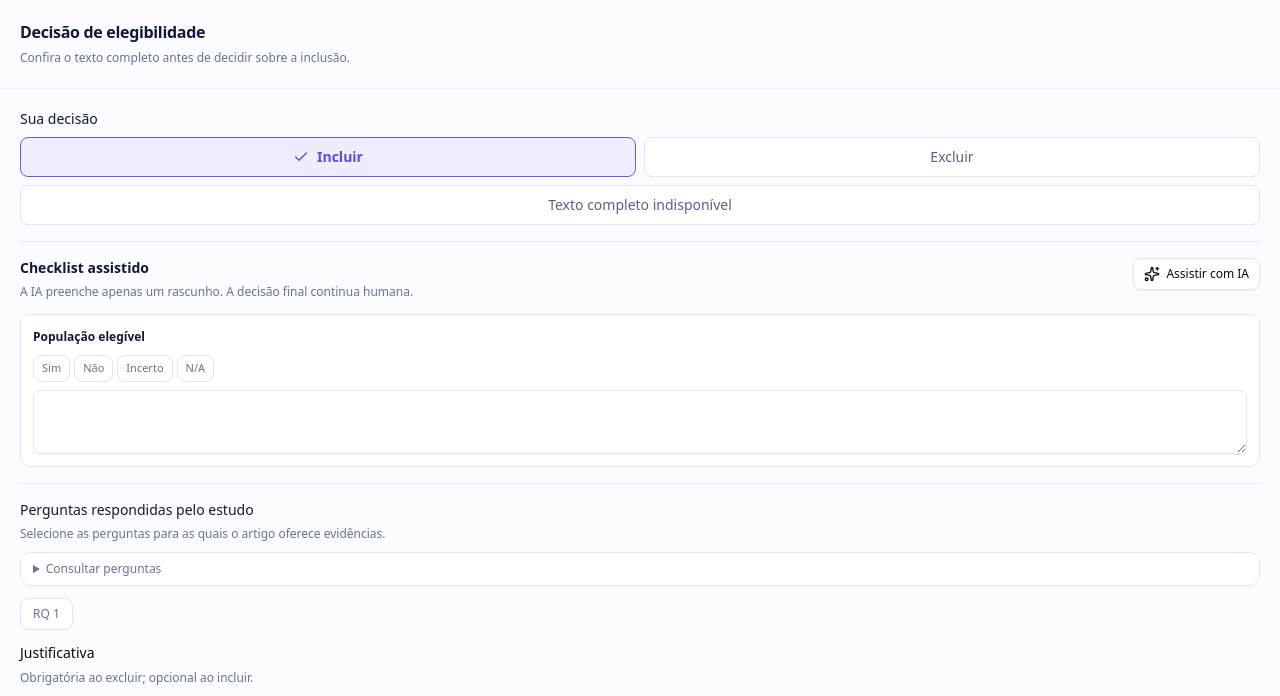
EligibilityDecisionTool › requires a reason for Texto completo indisponível
Step 1. Click the button "Texto completo indisponível" → (640, 205), box [20,185,1260,225]
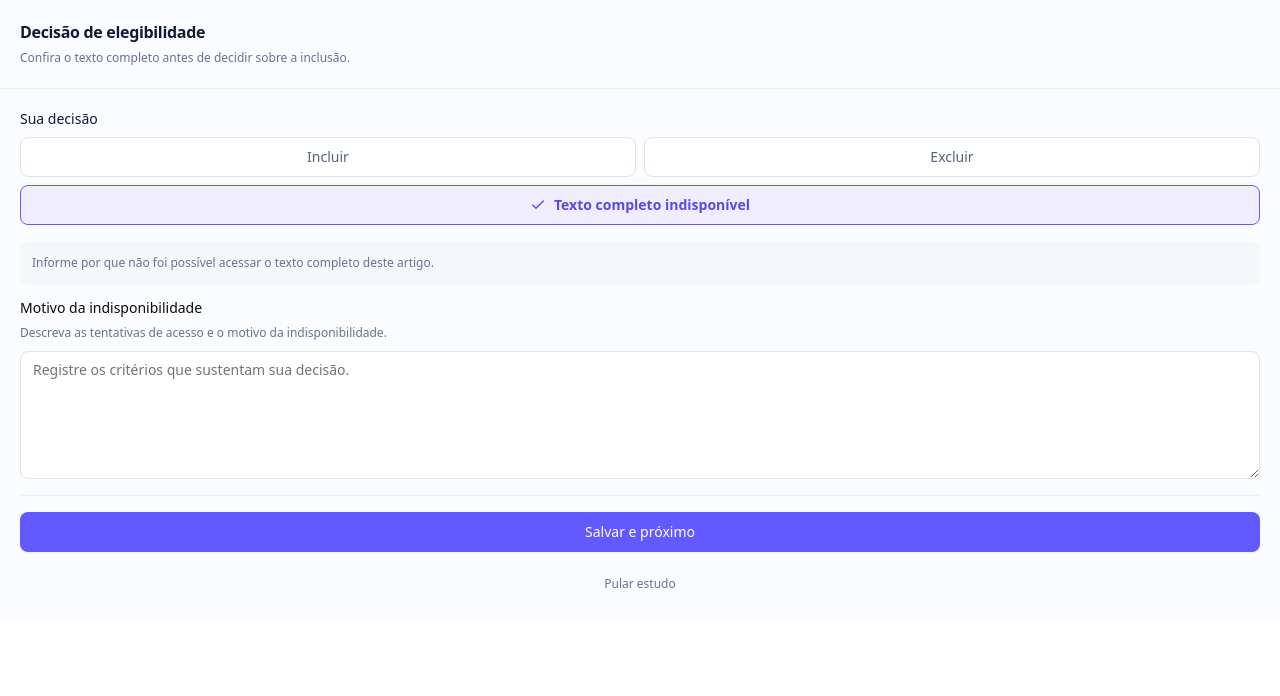
Step 2. Click the button "Salvar e próximo" → (640, 532), box [20,512,1260,552]
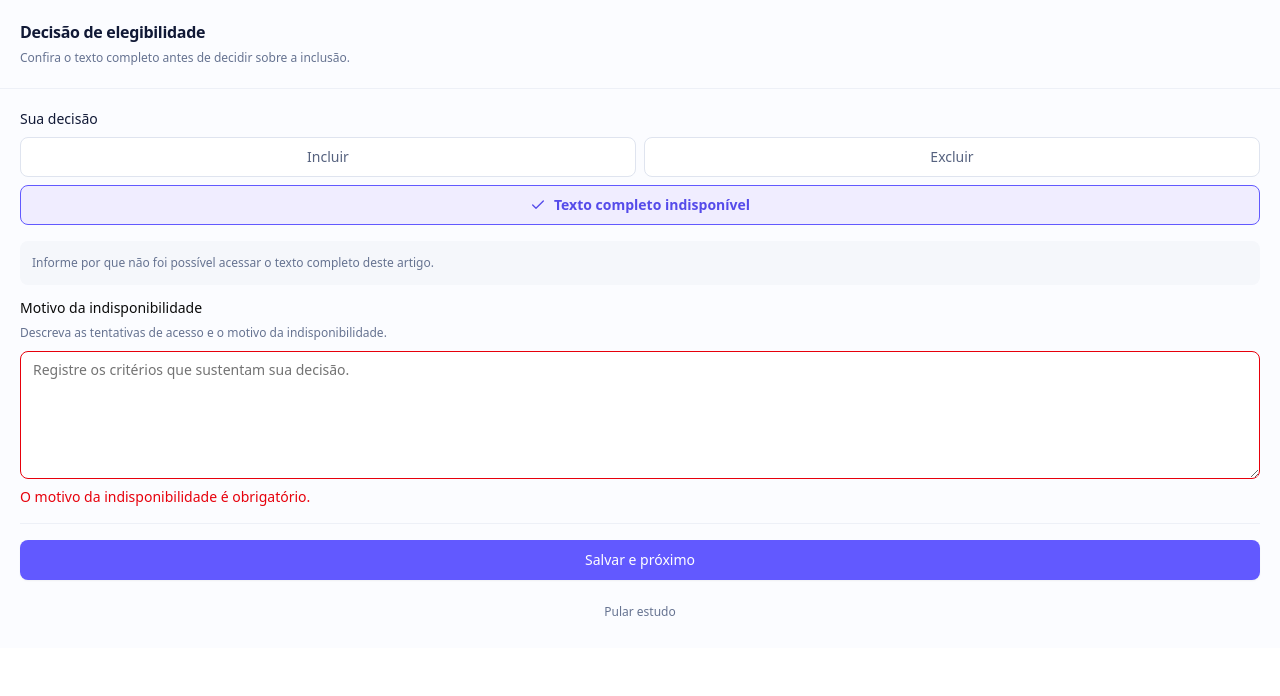
Result: the text "O motivo da indisponibilidade é obrigatório." is shown at [20,487,310,506]
